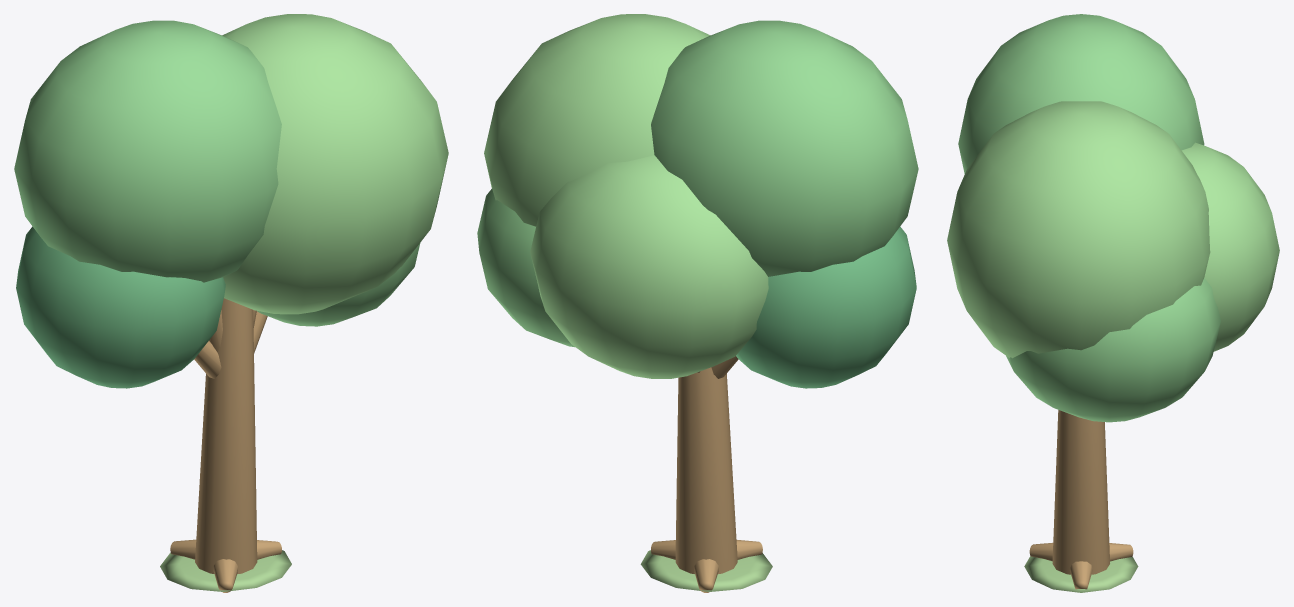
The model's file is tree_v2_summer.glb.
3 renders of one model, left to right at view 1: azimuth 30°, elevation 25°; view 2: azimuth 150°, elevation 25°; view 3: azimuth 270°, elevation 25°, orthographic. The views are drawn at different scales.
Visible parts, largest first — view 1: Base_Canopy (×4), Base_Trunk, GroundAccent, Base_Root, Base_Branch; view 2: Base_Canopy (×5), Base_Trunk, GroundAccent, Base_Root; view 3: Base_Canopy (×4), Base_Trunk, GroundAccent, Base_Root.
Part boxes in pixels (x1=…): Base_Canopy (×4): x1=14, y1=14, x2=448, y2=388; Base_Trunk: x1=195, y1=298, x2=257, y2=573; GroundAccent: x1=160, y1=550, x2=291, y2=591; Base_Root: x1=213, y1=559, x2=237, y2=592; Base_Branch: x1=194, y1=341, x2=221, y2=378; Base_Canopy (×5): x1=477, y1=14, x2=918, y2=388; Base_Trunk: x1=675, y1=367, x2=737, y2=573; GroundAccent: x1=640, y1=550, x2=772, y2=591; Base_Root: x1=694, y1=559, x2=718, y2=592; Base_Canopy (×4): x1=947, y1=14, x2=1279, y2=422; Base_Trunk: x1=1052, y1=410, x2=1109, y2=574; GroundAccent: x1=1024, y1=556, x2=1138, y2=592; Base_Root: x1=1070, y1=561, x2=1092, y2=589.
Size of the model in its own units: 3.84 by 5.05 by 2.98.
